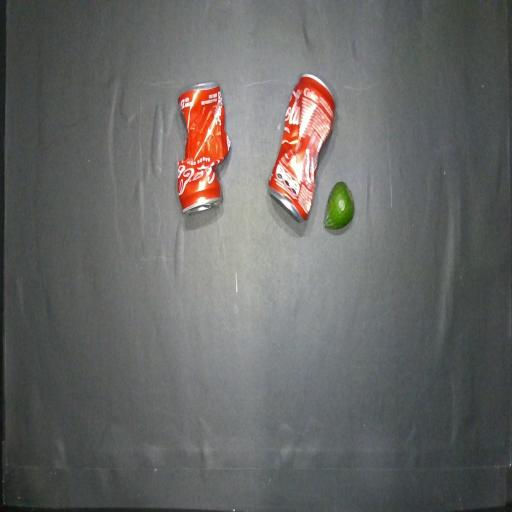higo: (324, 182, 354, 229)
lata_defectuoso: (269, 74, 335, 221), (177, 82, 230, 212)
